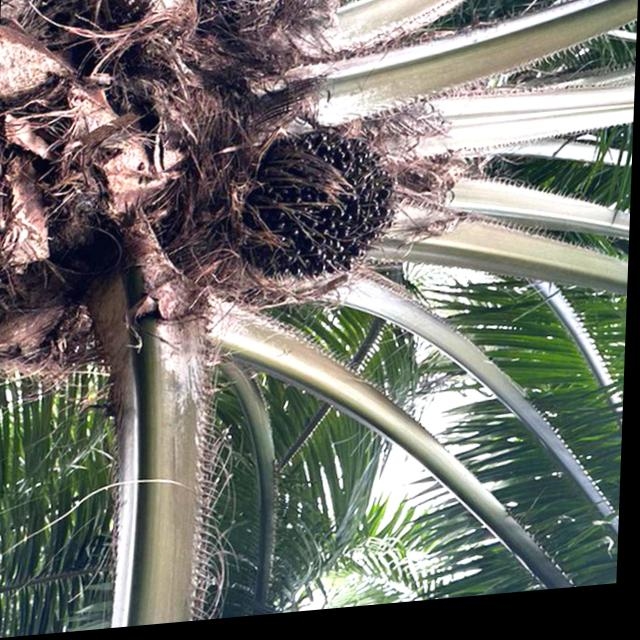unripe: (212, 122, 415, 309)
